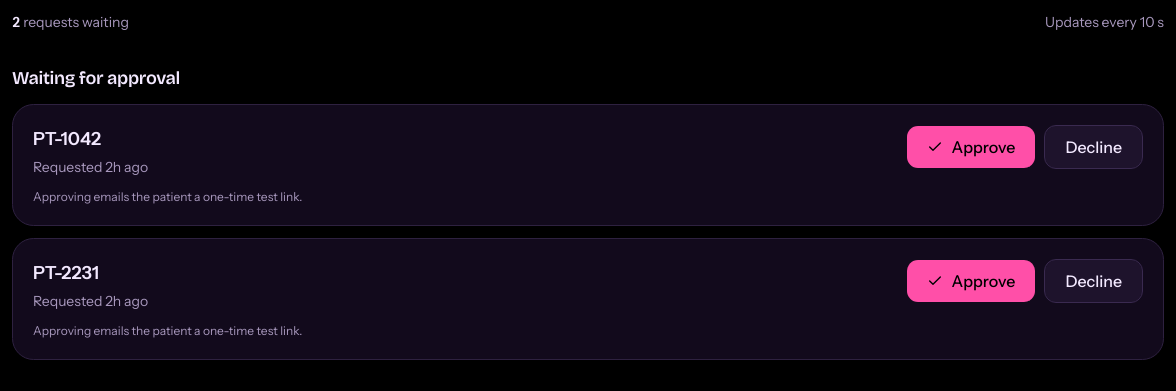
Test: RequestsInbox › approve → email disabled explains the fallback
What coordinates should you click on to do the following:
click the button with aria-label "Approve refill request for PT-1042"
I would click on:
 (972, 147)
Its box is 906,125 -> 1036,169.
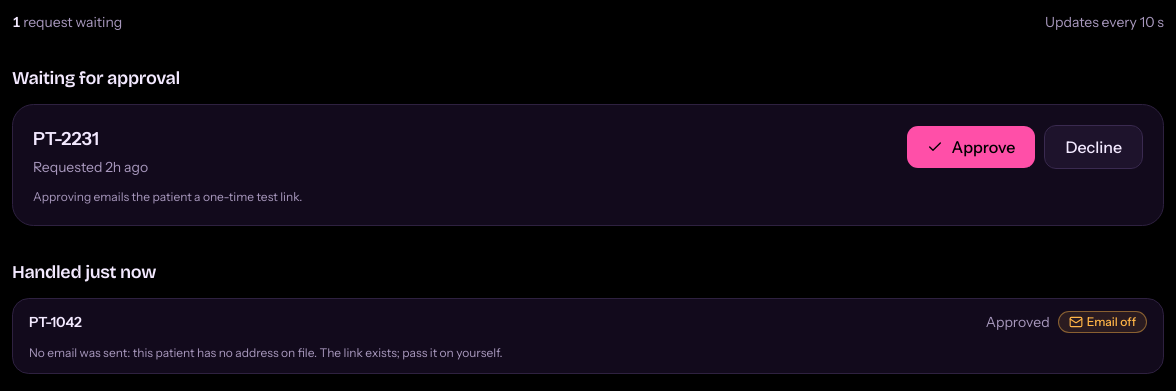
Expected: the text "Email off" is shown, 1058,311 -> 1147,333
Expected: the text "no address on file" is shown, 29,345 -> 503,360
